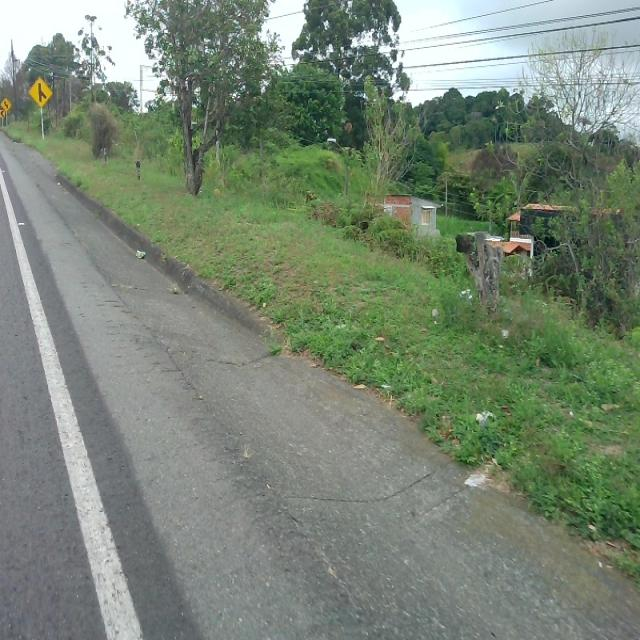DITCH: (1, 127, 638, 638)
